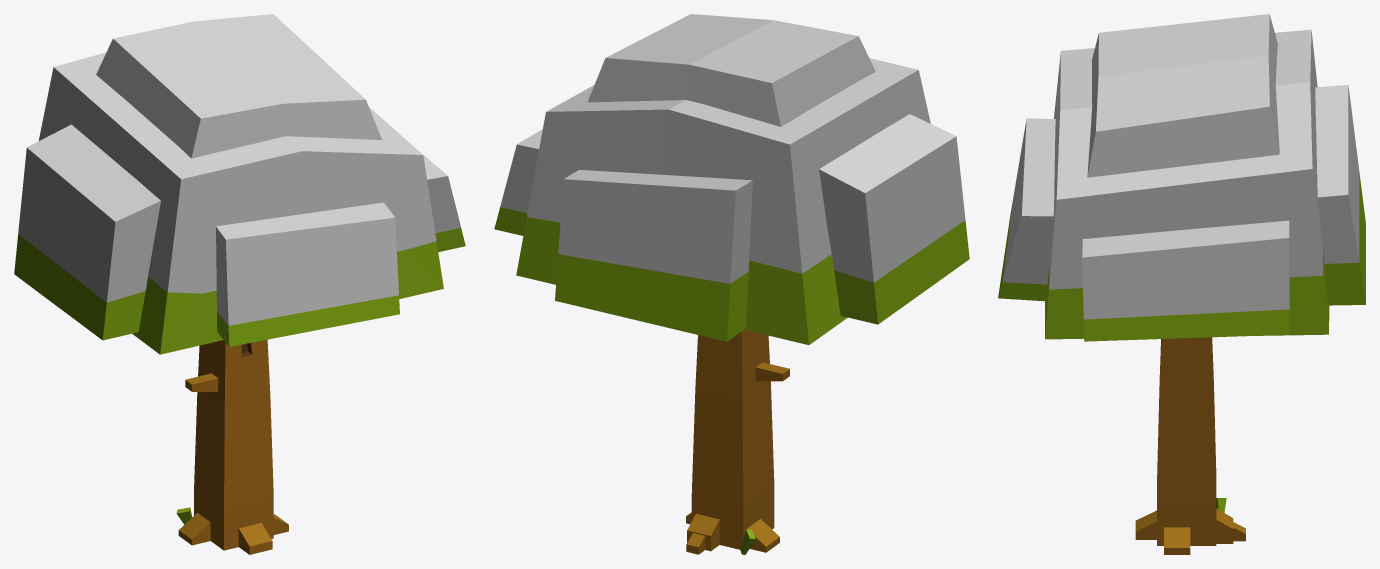
Rendered from SF_Env_Tree_Snow_04.fbx.
3 views of the same model, side by side, from view 1: azimuth 30°, elevation 25°; view 2: azimuth 150°, elevation 25°; view 3: azimuth 270°, elevation 25° (orthographic). The views are drawn at different scales.
Visible parts, largest first — view 1: SF_Env_Tree_Snow_04; view 2: SF_Env_Tree_Snow_04; view 3: SF_Env_Tree_Snow_04.
Boxes of the visible parts, box(x1,y1,x2,y2) form: SF_Env_Tree_Snow_04: box(14, 14, 465, 554); SF_Env_Tree_Snow_04: box(494, 14, 969, 554); SF_Env_Tree_Snow_04: box(998, 14, 1365, 554).
Bounding box in the file's own units: 5.51 × 7.1 × 4.9.
